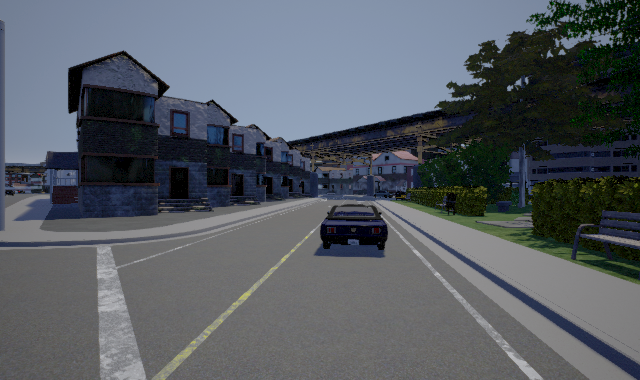vehicle: (320, 204, 388, 250)
